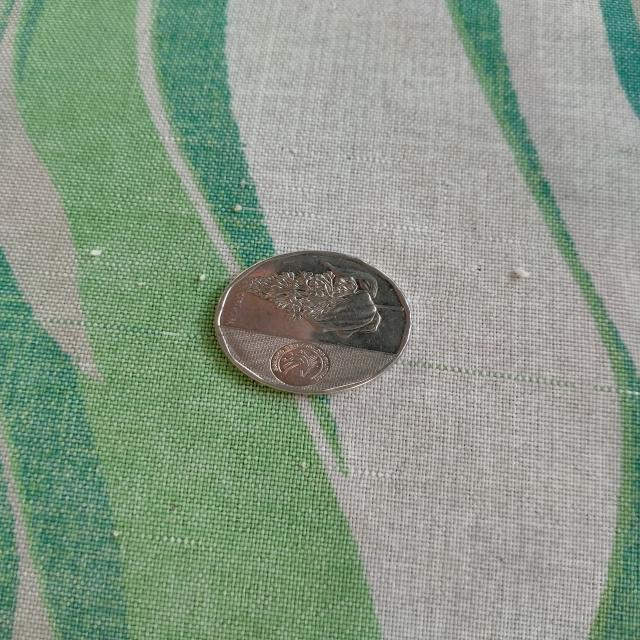10_New_Back: (226, 253, 420, 342)
